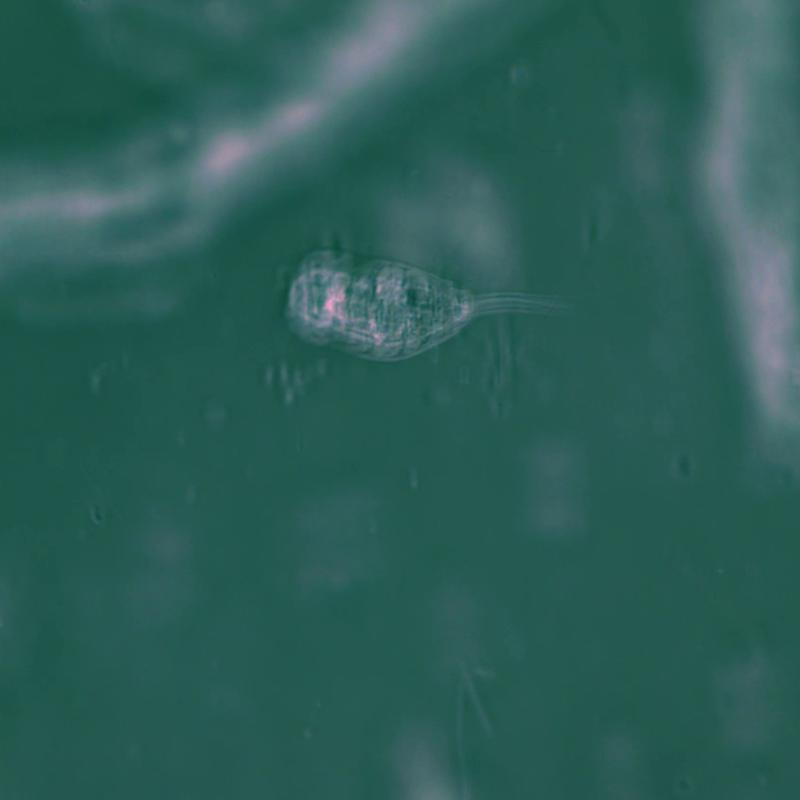depth:80: (246, 225, 651, 384)
